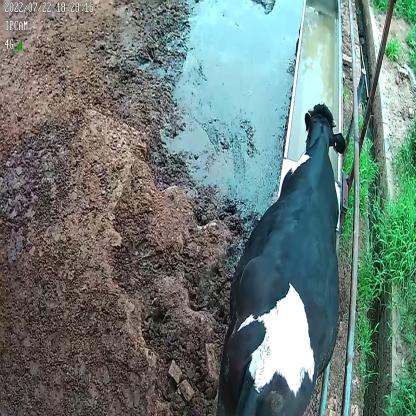cow: (214, 104, 346, 416)
